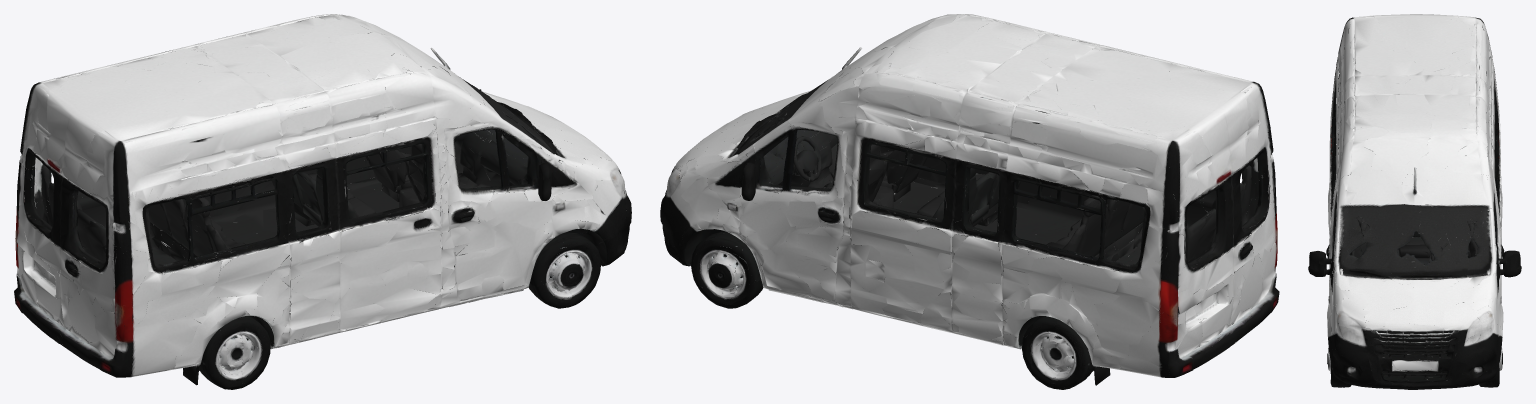
File: van-passageiros__01a16c1b.glb
The picture shows the model from 3 angles, left to right: view 1: azimuth 30°, elevation 25°; view 2: azimuth 150°, elevation 25°; view 3: azimuth 270°, elevation 25°; orthographic projection. The views are drawn at different scales.
Visible parts, largest first — view 1: van-passageiros; view 2: van-passageiros; view 3: van-passageiros.
Part boxes in pixels (box(x1,y1,x2,y2)): van-passageiros: box(14, 14, 631, 389); van-passageiros: box(660, 14, 1279, 389); van-passageiros: box(1308, 14, 1521, 389).
Bounding box in the file's own units: 5.95 × 2.78 × 2.61.
Materials: 1 (1 with a texture image).
